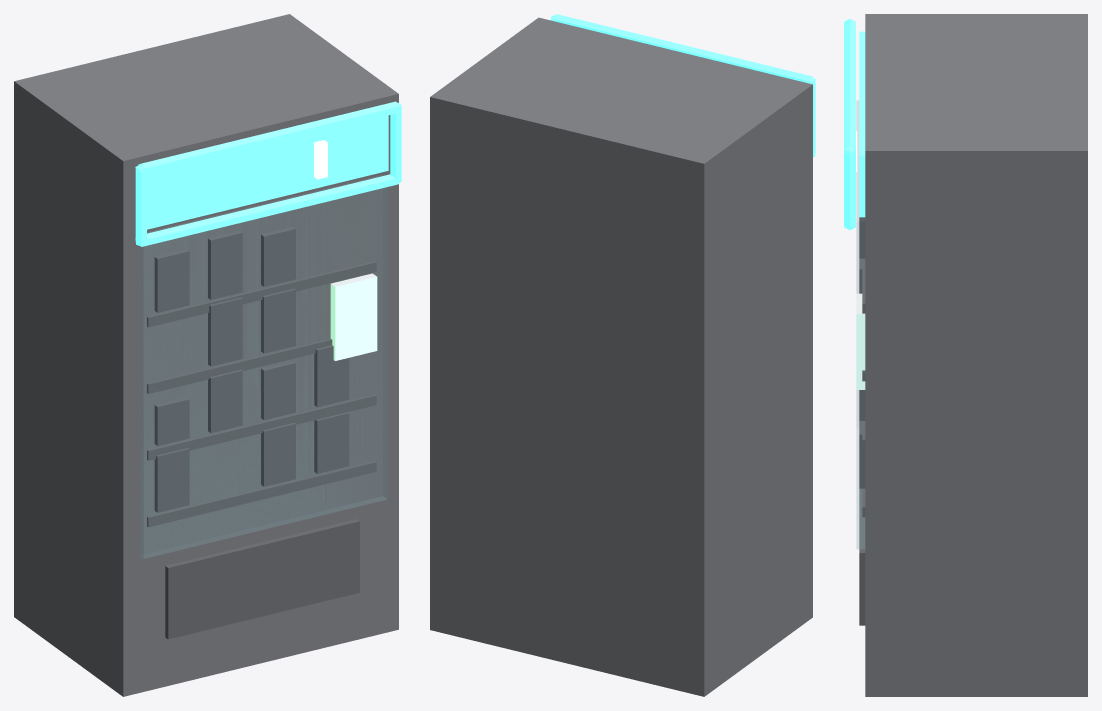
File: vending_machine.glb
3 renders of one model, left to right at view 1: azimuth 30°, elevation 25°; view 2: azimuth 150°, elevation 25°; view 3: azimuth 270°, elevation 25°, orthographic. The views are drawn at different scales.
Visible parts, largest first — view 1: VendingMachine; view 2: VendingMachine; view 3: VendingMachine.
Part boxes in pixels (x1,y1,x2,y2): VendingMachine: (14, 14, 401, 696); VendingMachine: (430, 14, 815, 696); VendingMachine: (844, 14, 1087, 696).
Bounding box in the file's own units: 1.05 × 1.95 × 0.7891.
